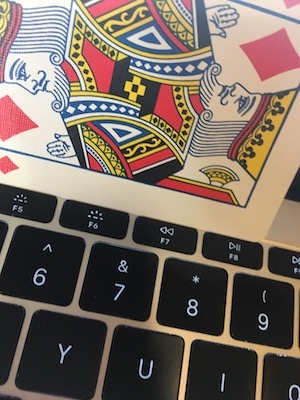KingOfDiamonds: (5, 1, 297, 250)
